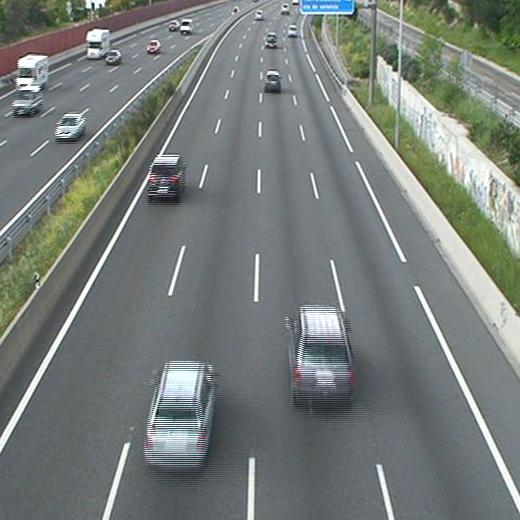car: (143, 360, 215, 468), (286, 305, 355, 409), (147, 152, 184, 201), (263, 69, 281, 93), (266, 32, 277, 47), (288, 24, 297, 38)
